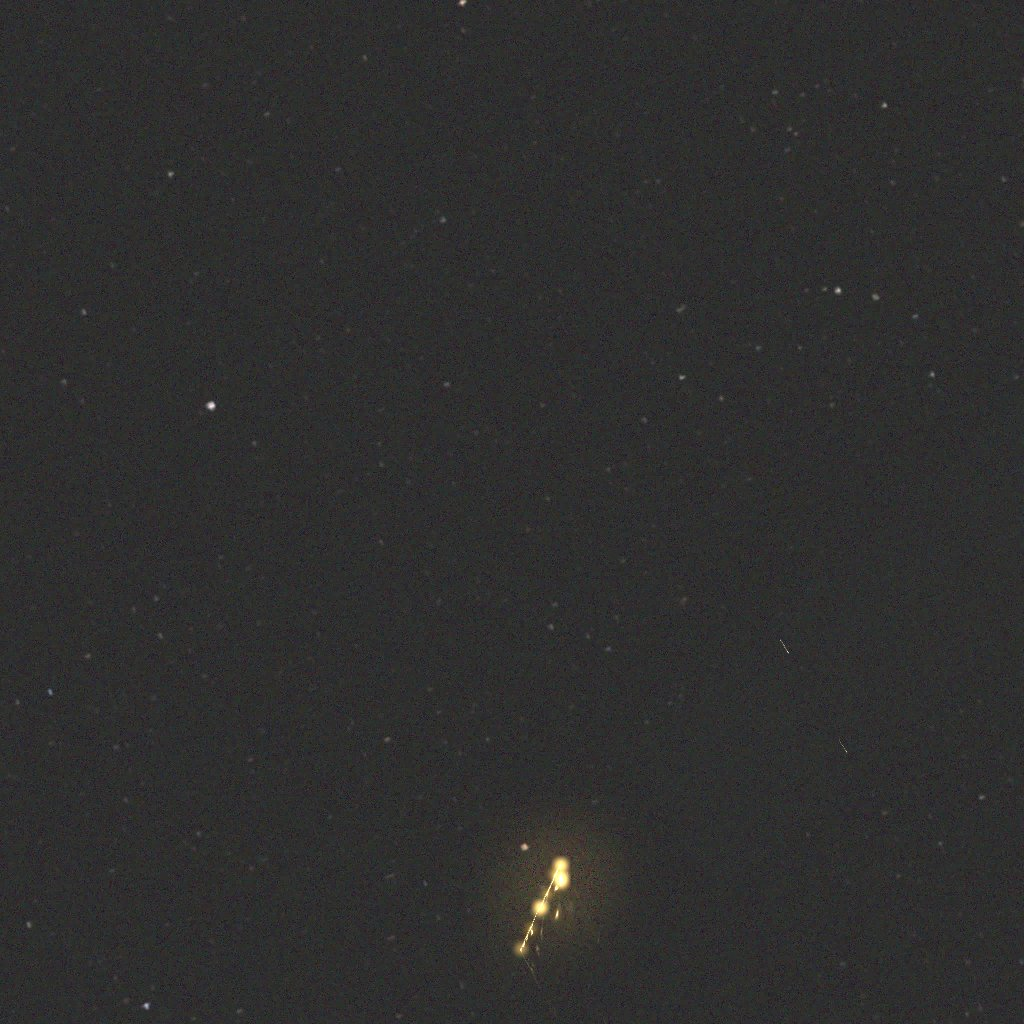earth_observation_sat_1: (520, 398, 1024, 1024)
